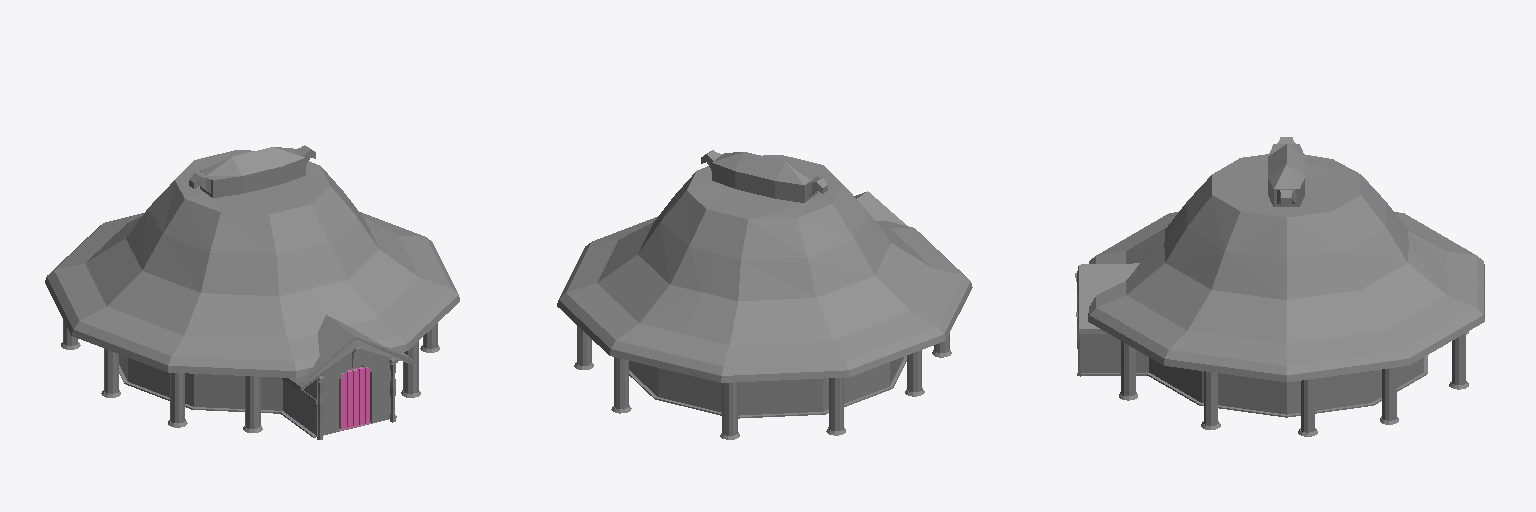
File: hutt.obj
3 renders of one model, left to right at view 1: azimuth 30°, elevation 25°; view 2: azimuth 150°, elevation 25°; view 3: azimuth 270°, elevation 25°, orthographic.
Visible parts, largest first — view 1: Jotunheim_House004, Box022; view 2: Jotunheim_House004; view 3: Jotunheim_House004.
Part boxes in pixels (x1,y1,x2,y2): Jotunheim_House004: (45,145,459,439); Box022: (339,367,369,429); Jotunheim_House004: (557,150,972,439); Jotunheim_House004: (1075,137,1484,436).
Bounding box in the file's own units: 21.82 × 11.73 × 21.44.